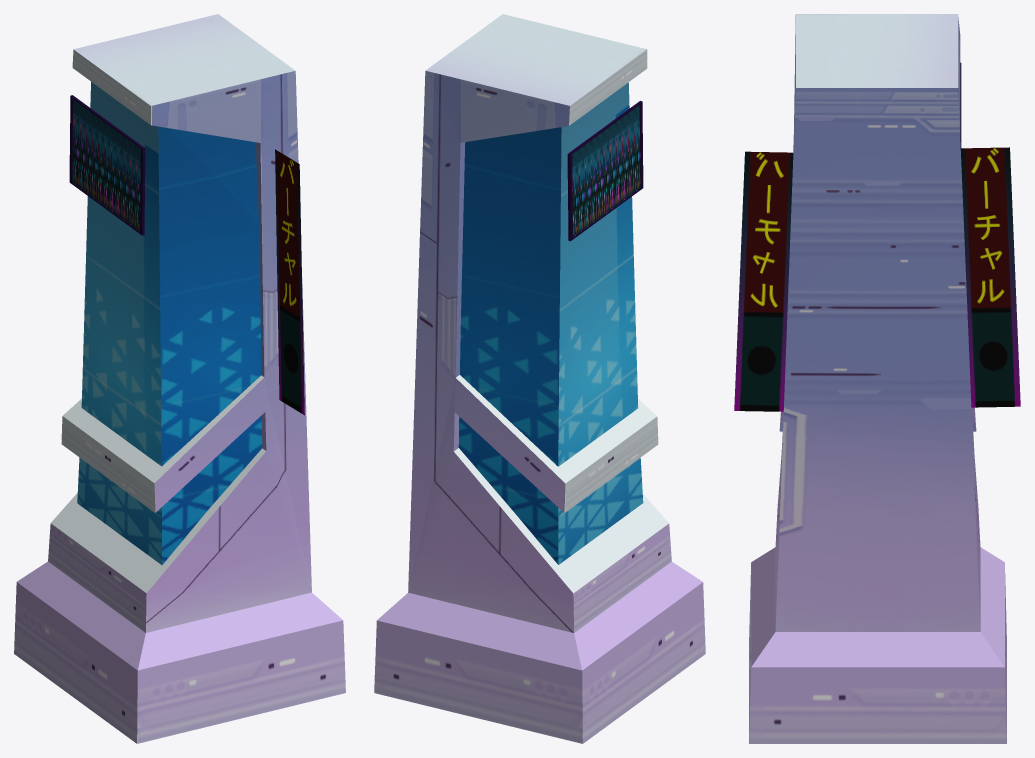
Rendered from FUT0210012.fbx.
3 views of the same model, side by side, from view 1: azimuth 30°, elevation 25°; view 2: azimuth 150°, elevation 25°; view 3: azimuth 270°, elevation 25° (orthographic). The views are drawn at different scales.
Parts seen in each view (by area): view 1: smFUT0210012; view 2: smFUT0210012; view 3: smFUT0210012.
Part boxes in pixels (x1,y1,x2,y2): smFUT0210012: [14, 14, 345, 743]; smFUT0210012: [374, 14, 705, 743]; smFUT0210012: [734, 14, 1020, 743].
Bounding box in the file's own units: 773 × 2168 × 877.
4 materials, 4 textured.
